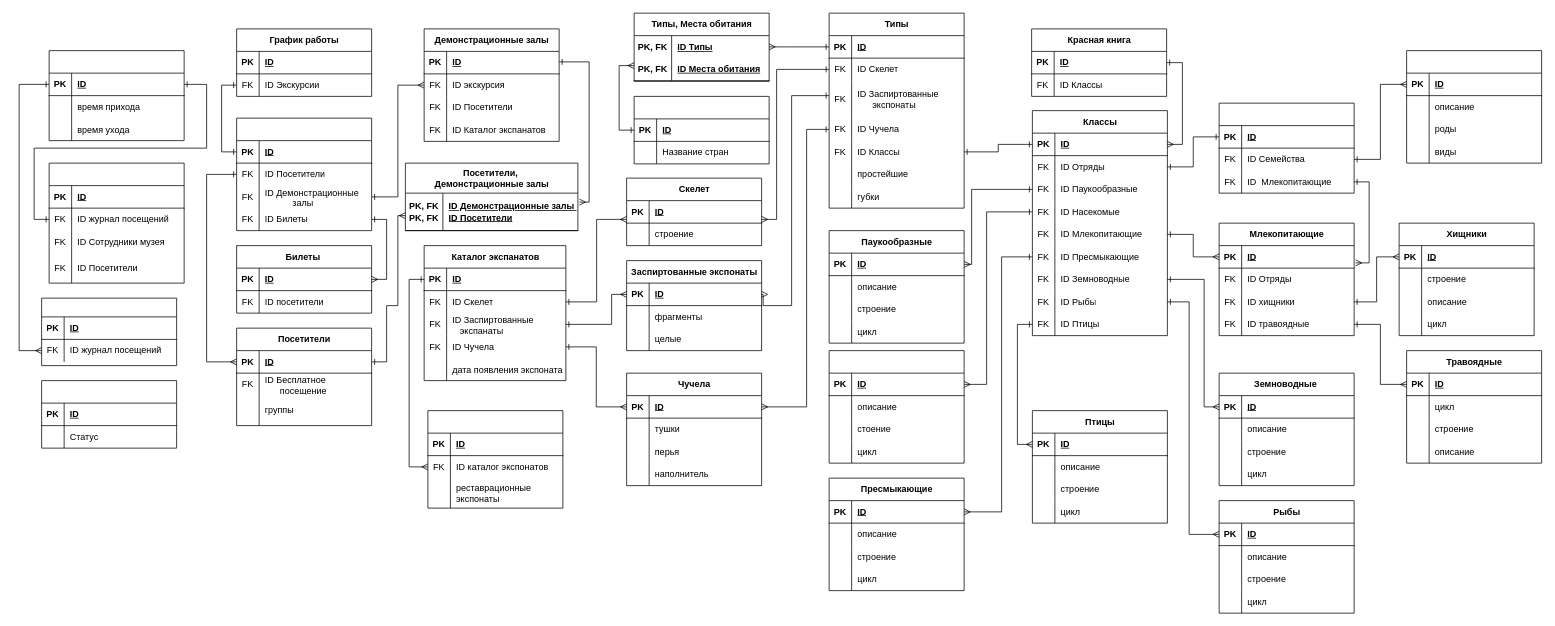
This 1555x626 diagram has some shape labels left out. Each missing label, with the box of its shape:
Бесплатное посещение: (41, 380, 177, 448)
Журнал посещений: (48, 50, 184, 141)
Места обитания: (633, 96, 769, 164)
Насекомые: (828, 350, 964, 463)
Отряды: (1218, 102, 1354, 193)
Охрана: (48, 162, 184, 283)
Реставрация: (427, 410, 563, 508)
Семейства: (1406, 50, 1542, 163)
Сотрудники музея: (41, 297, 177, 366)
Экскурсия: (236, 117, 372, 231)
